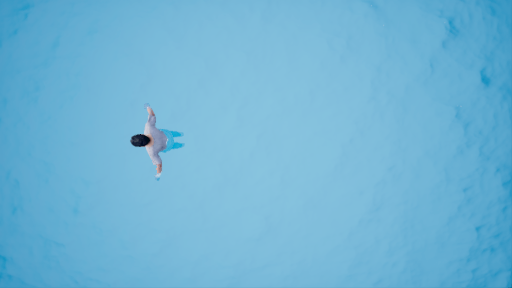person: (117, 97, 200, 179)
